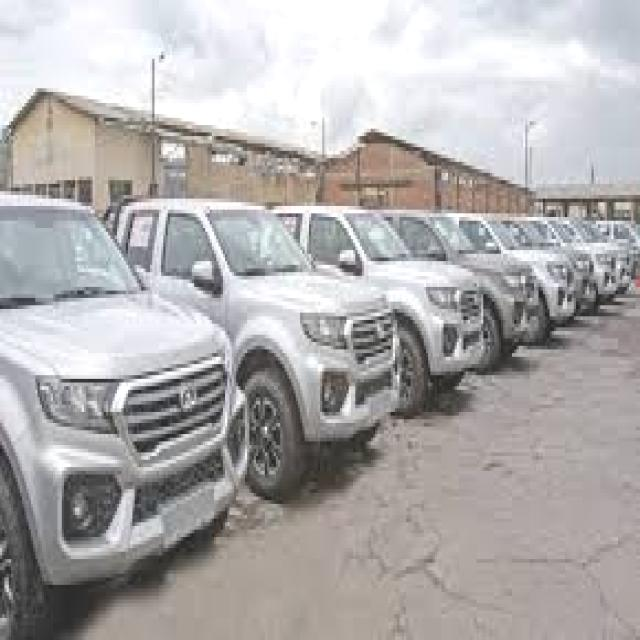CMT: (4, 196, 243, 621), (102, 197, 401, 481), (247, 202, 485, 410)
